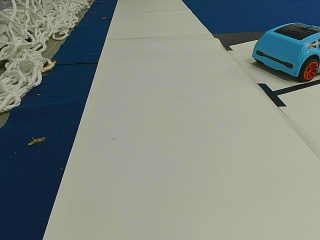car: (252, 21, 318, 81)
